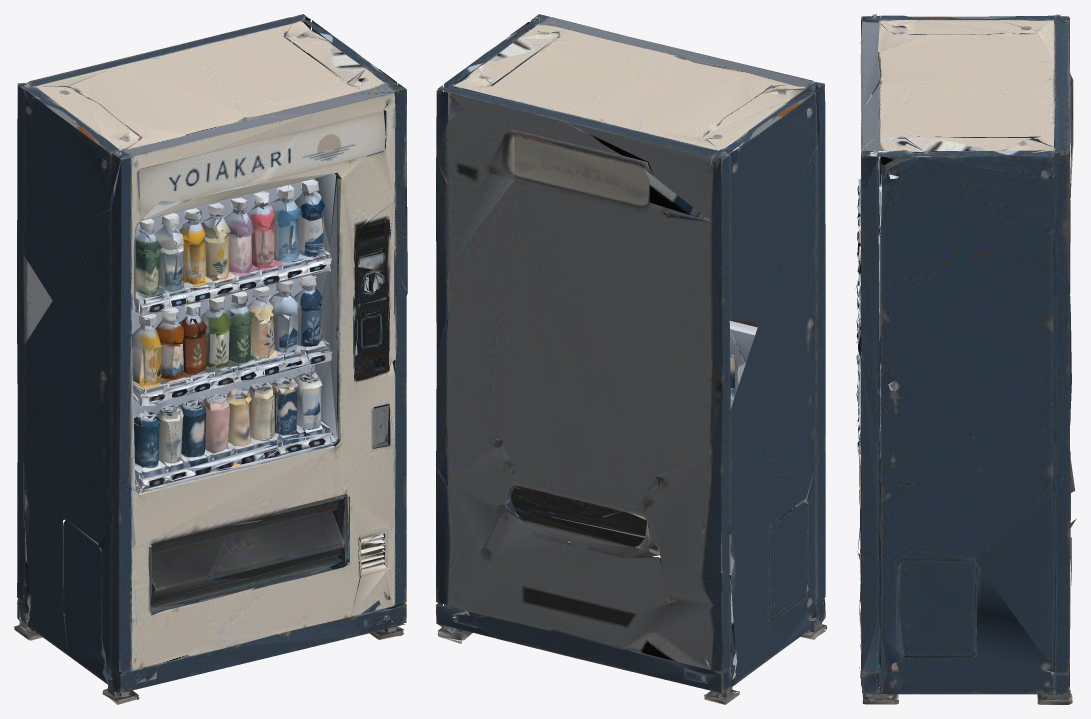
Rendered from H_vending_machine.glb.
3 views of the same model, side by side, from view 1: azimuth 30°, elevation 25°; view 2: azimuth 150°, elevation 25°; view 3: azimuth 270°, elevation 25° (orthographic).
Visible parts, largest first — view 1: H_vending_machine; view 2: H_vending_machine; view 3: H_vending_machine.
Part boxes in pixels (x1,y1,x2,y2): H_vending_machine: (14, 14, 407, 704); H_vending_machine: (436, 14, 826, 704); H_vending_machine: (856, 14, 1076, 704).
Size of the model in its own units: 1.03 by 1.84 by 0.6665.
Materials: 1 (1 with a texture image).
